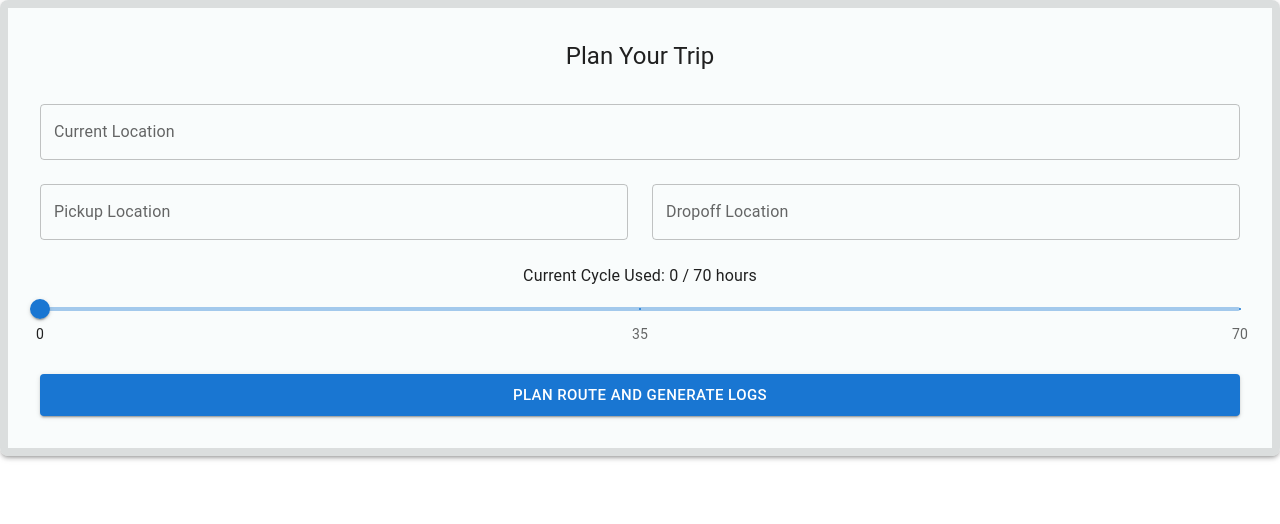
Test: TripForm › should validate required fields
Click the button "Plan Route and Generate Logs" at (640, 395), box [40,374,1240,416]
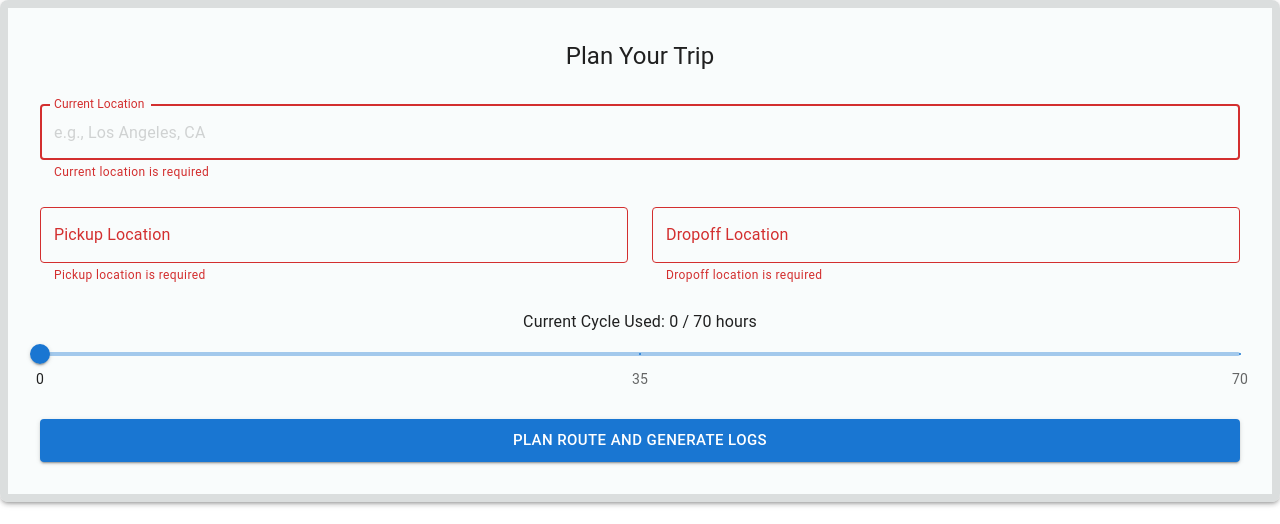
Expected: the text "Current location is required" is shown, [54,165,209,179]
Expected: the text "Pickup location is required" is shown, [54,268,206,282]
Expected: the text "Dropoff location is required" is shown, [666,268,822,282]
